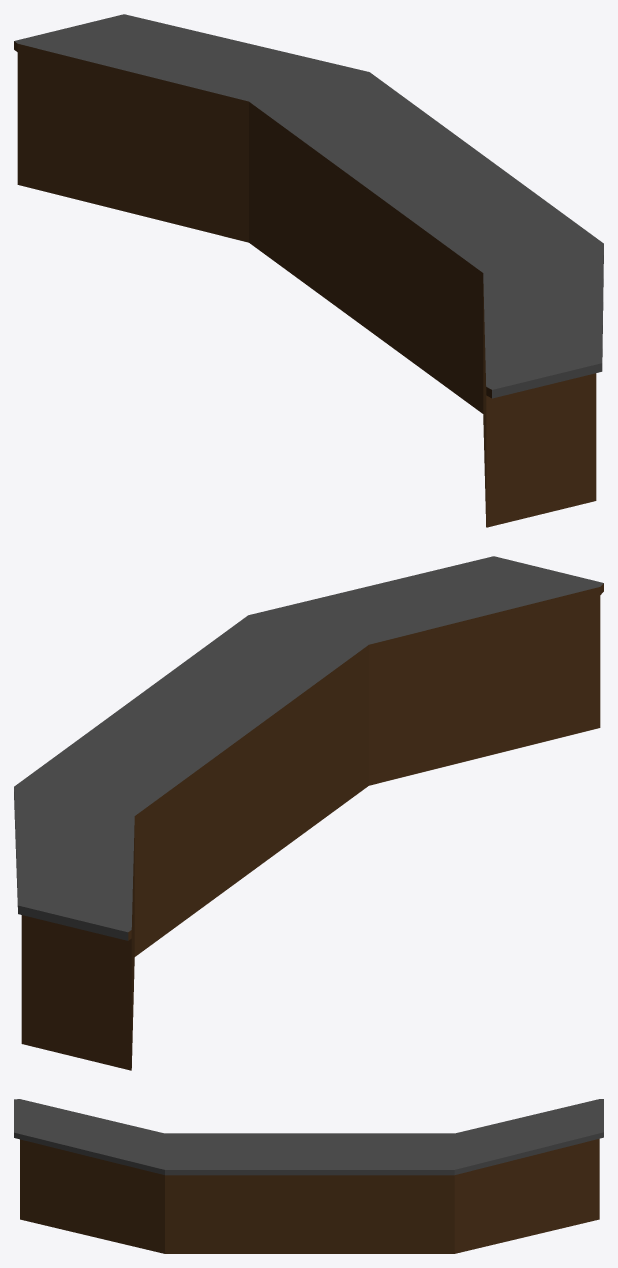
File: mesa.glb
The picture shows the model from 3 angles, top to bottom: view 1: azimuth 30°, elevation 25°; view 2: azimuth 150°, elevation 25°; view 3: azimuth 270°, elevation 25°; orthographic projection. The views are drawn at different scales.
Parts seen in each view (by area): view 1: mesa; view 2: mesa; view 3: mesa.
Boxes of the visible parts, x1,y1,x2,y2 form: mesa: (14, 14, 603, 527); mesa: (14, 556, 603, 1070); mesa: (14, 1099, 603, 1253).
Bounding box in the file's own units: 4.27 × 2.45 × 15.
